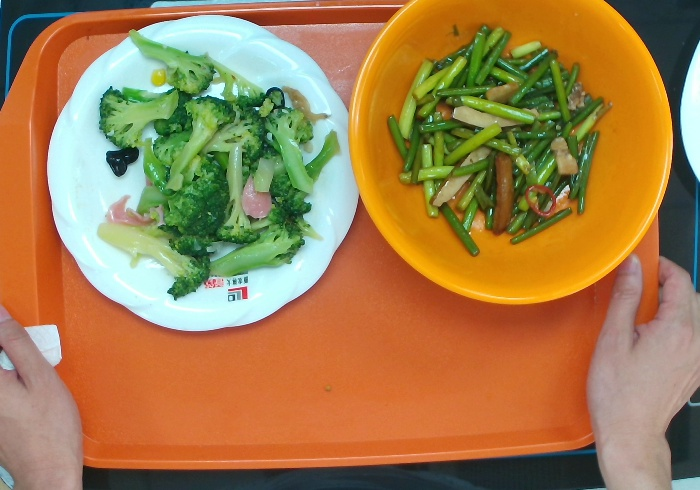ZNLD-Hua_Bian_Wan: (43, 12, 366, 336)
ZNLD-Ju_Se_Tang_Wan: (344, 1, 676, 307)
